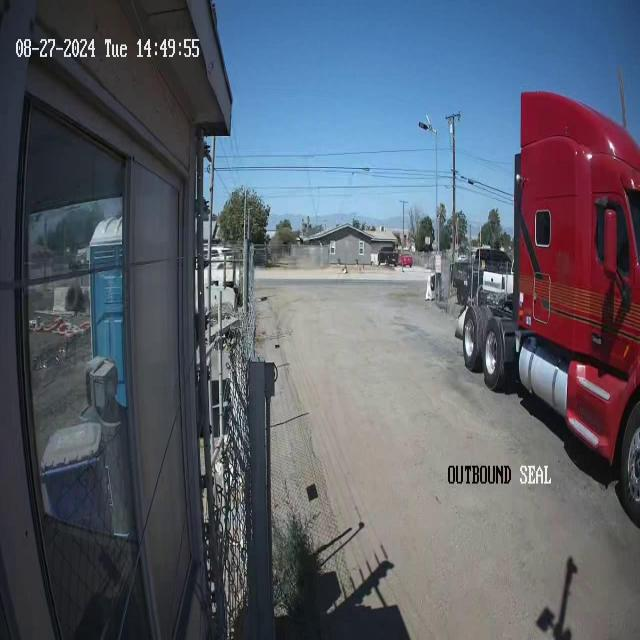TRUCK_IN: (454, 80, 639, 526)
